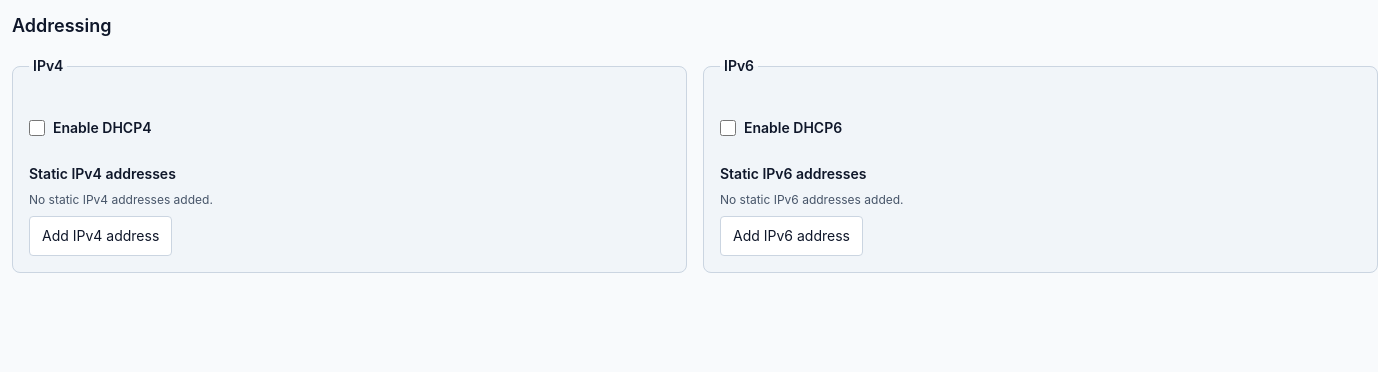
Scenario: AddressingPanel › shows touch-gated inline address errors after blur
The image size is (1378, 372).
Click the button "Add IPv4 address": [101, 236] box [29, 216, 172, 256]
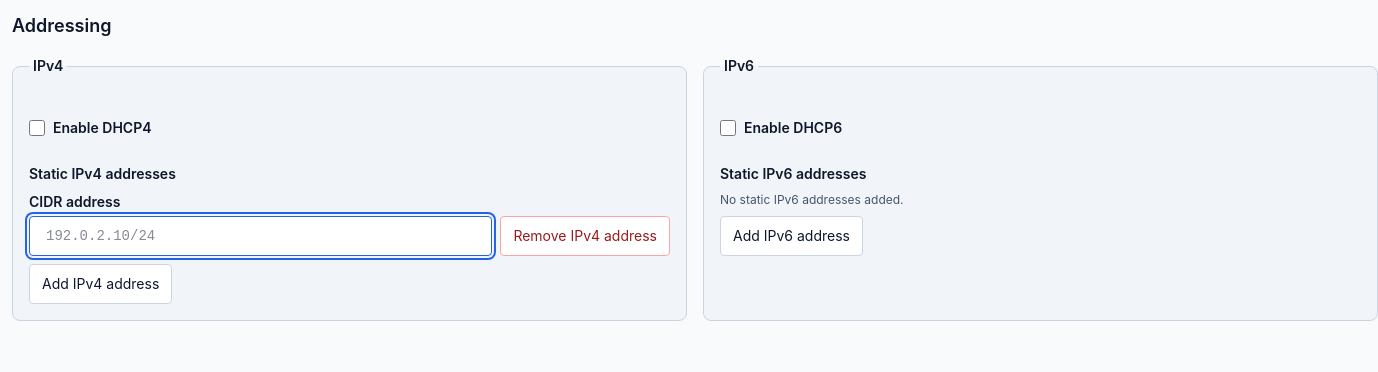
In the field named "IPv4 address 1 for ens18": [261, 236] box [29, 216, 492, 256], type "nonsense"
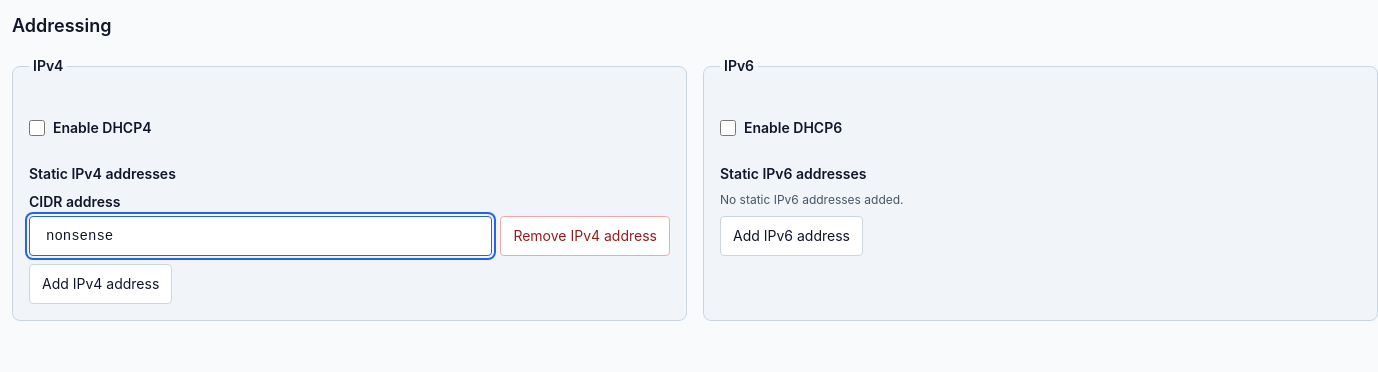
Check: the text "Enter an address in CIDR form, e.g. 192.0.2.10/24." is not shown
Leave the field named "IPv4 address 1 for ens18", box [29, 216, 492, 256]
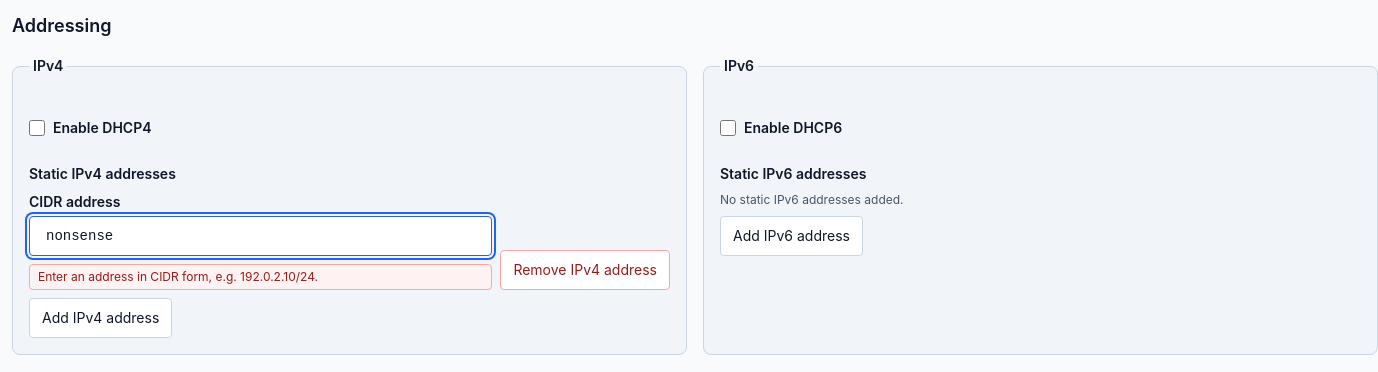
Check: the text "Enter an address in CIDR form, e.g. 192.0.2.10/24." is shown, box [29, 264, 492, 290]
